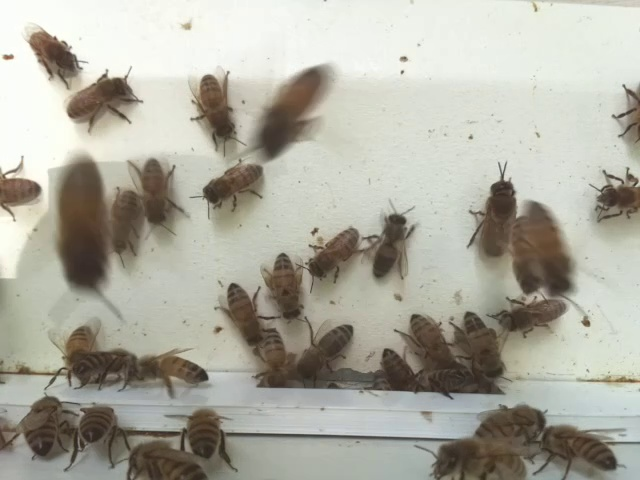bee: (47, 154, 133, 325), (257, 64, 338, 167), (506, 203, 579, 303), (528, 412, 629, 480), (361, 189, 426, 290), (470, 149, 524, 268), (159, 402, 248, 473), (178, 66, 249, 155), (411, 429, 531, 480), (115, 346, 223, 402), (290, 311, 365, 388), (446, 298, 515, 381), (191, 155, 283, 216), (132, 151, 192, 243), (59, 71, 150, 129), (16, 17, 92, 86), (308, 215, 371, 295), (36, 319, 106, 386), (21, 384, 76, 469), (124, 429, 214, 480), (71, 396, 129, 472), (586, 156, 640, 234), (214, 277, 269, 350), (476, 396, 548, 450), (261, 247, 309, 325), (393, 308, 457, 365), (1, 154, 47, 227), (75, 342, 138, 391), (256, 321, 295, 393), (377, 344, 419, 396)
